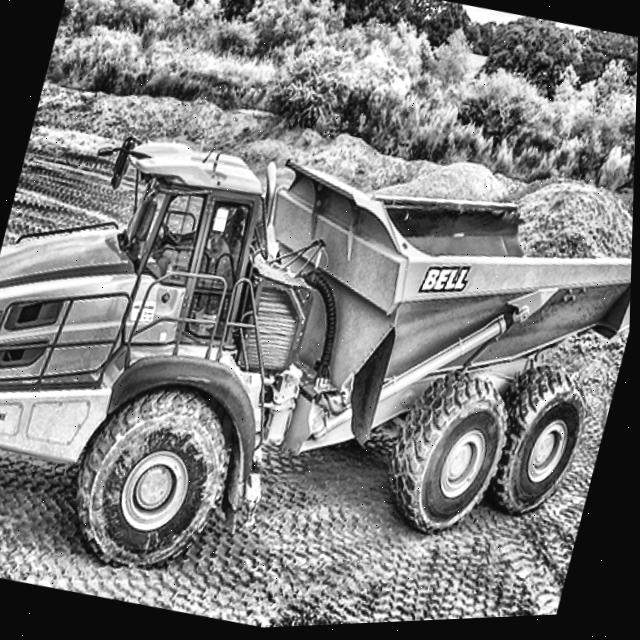dump_truck: (0, 23, 639, 640)
